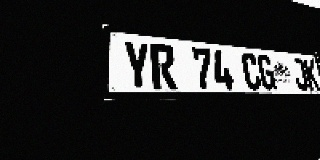4: (211, 49, 234, 90)
7: (191, 47, 215, 90)
C: (241, 52, 262, 90)
G: (256, 54, 277, 90)
J: (291, 58, 309, 90)
K: (303, 59, 320, 90)
R: (150, 43, 177, 90)
Y: (122, 40, 152, 90)
